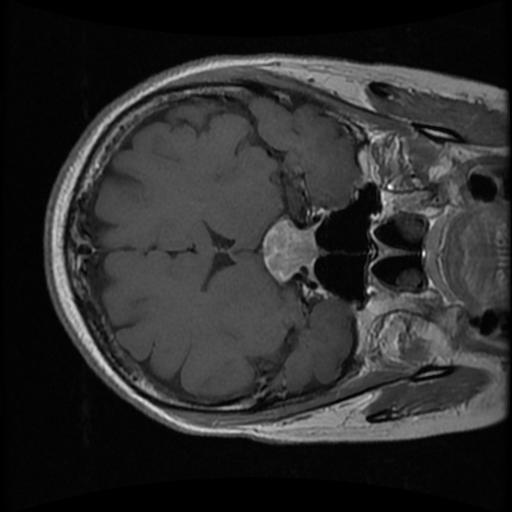pituitary tumour: (262, 215, 317, 281)
